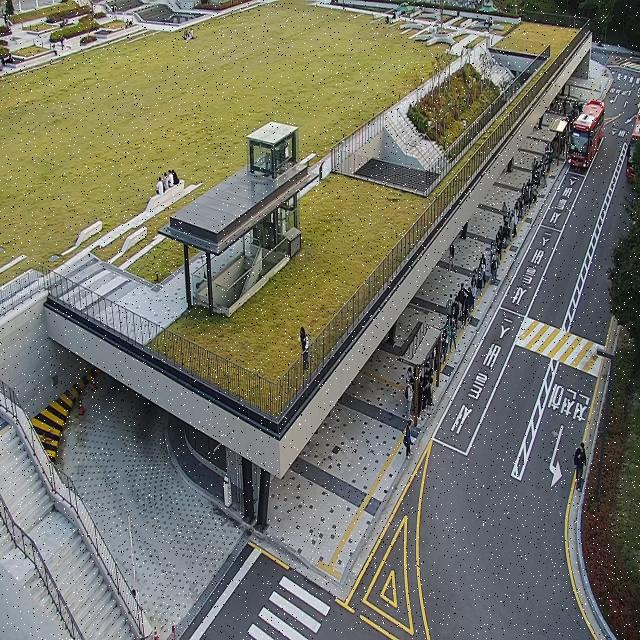queue: (415, 100, 583, 428)
